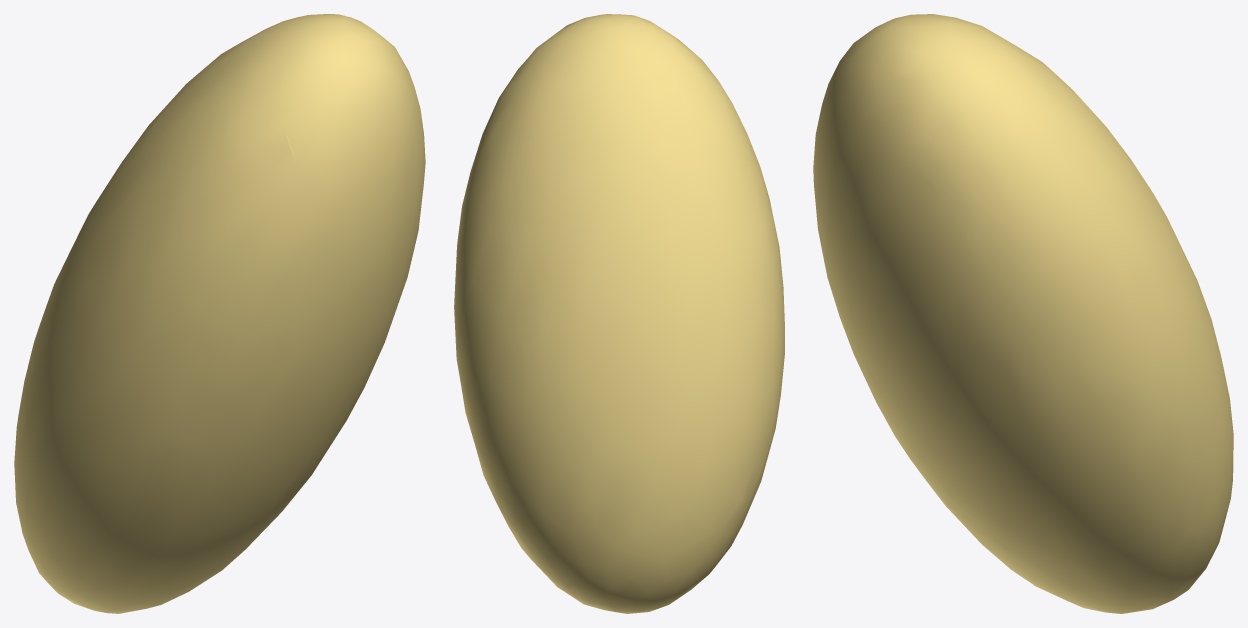
Rendered from fma54520_mm3566.glb.
3 renders of one model, left to right at view 1: azimuth 30°, elevation 25°; view 2: azimuth 150°, elevation 25°; view 3: azimuth 270°, elevation 25°, orthographic. The views are drawn at different scales.
Visible parts, largest first — view 1: FMA54520_MM3566; view 2: FMA54520_MM3566; view 3: FMA54520_MM3566.
Boxes of the visible parts, left/top/right/bottom form: FMA54520_MM3566: left=14, top=14, right=425, bottom=613; FMA54520_MM3566: left=454, top=14, right=784, bottom=613; FMA54520_MM3566: left=813, top=14, right=1233, bottom=613.
Size of the model in its own units: 0.00201 by 0.00337 by 0.00203.
